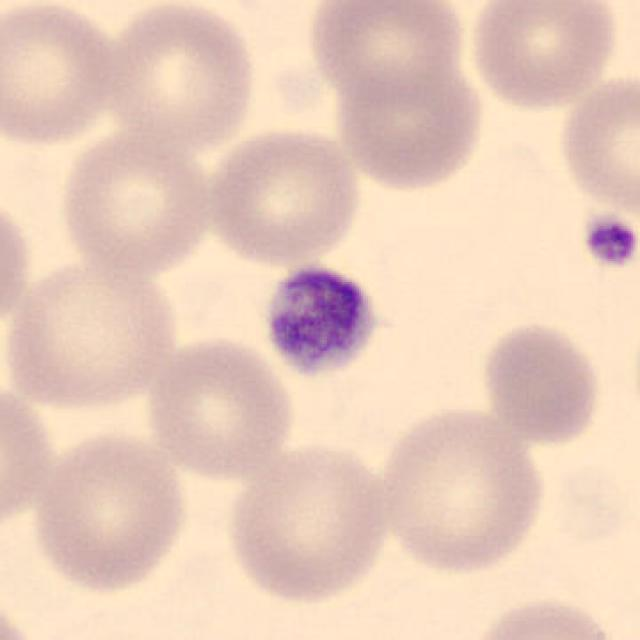Platelets: (260, 258, 386, 382), (578, 210, 638, 271)
RBC: (373, 402, 551, 578), (222, 437, 395, 607), (0, 257, 181, 414), (27, 425, 192, 596), (53, 122, 217, 282), (101, 0, 262, 155), (140, 332, 298, 483), (202, 122, 364, 268), (329, 53, 489, 196), (0, 0, 128, 150), (302, 0, 471, 108), (464, 0, 622, 115), (475, 317, 606, 448), (554, 69, 640, 217), (0, 376, 57, 540), (460, 592, 630, 640), (0, 185, 36, 349), (0, 587, 46, 640)
